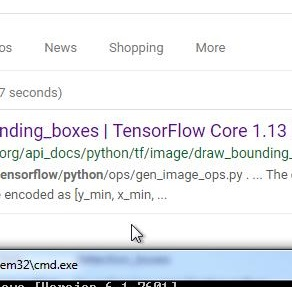cursor: (129, 222, 145, 245)
